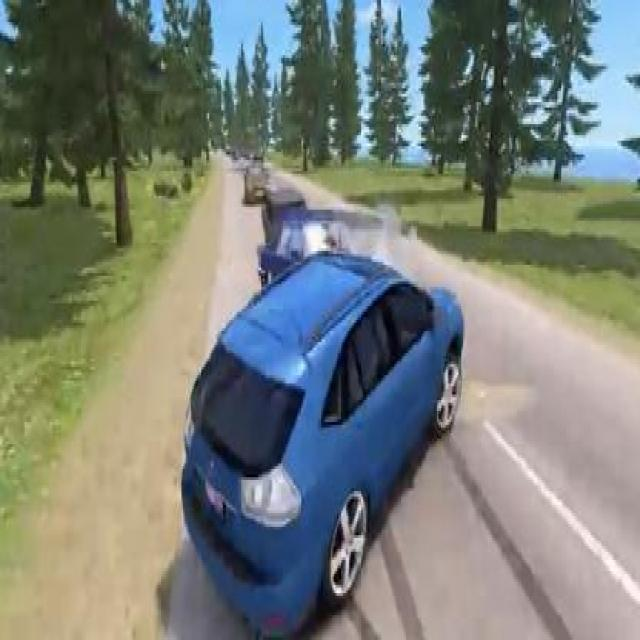accident: (176, 196, 464, 632)
